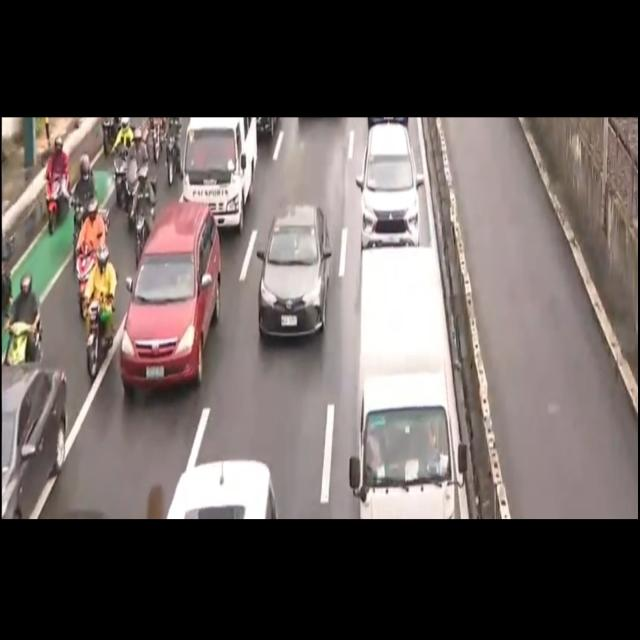Motorcycle: (38, 132, 78, 237), (85, 249, 117, 378), (74, 187, 104, 316), (1, 270, 42, 363), (129, 162, 161, 272), (111, 115, 131, 212), (162, 110, 183, 202), (128, 127, 149, 206)
Pick-up: (178, 113, 260, 237)
SUV: (122, 206, 220, 390), (356, 126, 422, 256)
Sedan: (0, 366, 71, 526), (256, 205, 332, 342)
Truck: (346, 249, 468, 515)
